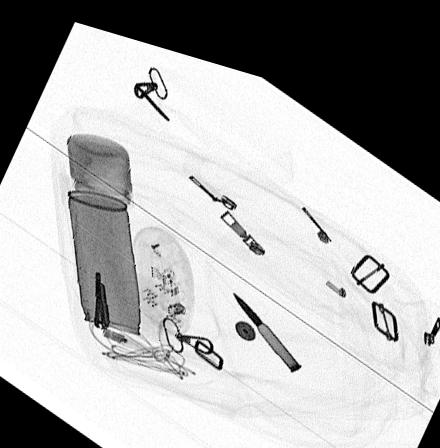Bullet: (230, 276, 301, 355)
